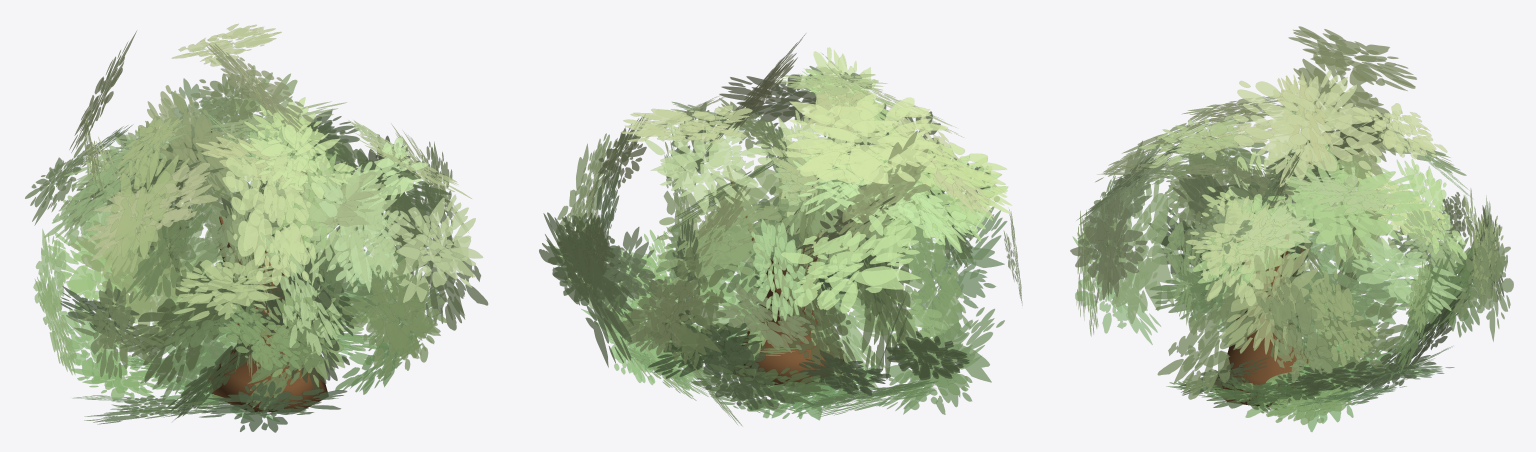
File: wild_shrub_1.glb
The picture shows the model from 3 angles, left to right: view 1: azimuth 30°, elevation 25°; view 2: azimuth 150°, elevation 25°; view 3: azimuth 270°, elevation 25°; orthographic projection. The views are drawn at different scales.
Parts seen in each view (by area): view 1: FoilageMakerTreeMesh001_1, FoilageMakerTreeMesh001; view 2: FoilageMakerTreeMesh001_1, FoilageMakerTreeMesh001; view 3: FoilageMakerTreeMesh001_1, FoilageMakerTreeMesh001.
Boxes of the visible parts, <box> form: FoilageMakerTreeMesh001_1: <box>25,23,488,432</box>; FoilageMakerTreeMesh001: <box>207,173,328,412</box>; FoilageMakerTreeMesh001_1: <box>539,34,1022,426</box>; FoilageMakerTreeMesh001: <box>727,166,846,385</box>; FoilageMakerTreeMesh001_1: <box>1070,26,1513,431</box>; FoilageMakerTreeMesh001: <box>1214,235,1309,406</box>.
Bounding box in the file's own units: 3.44 × 2.8 × 3.48.
2 materials, 1 textured.
